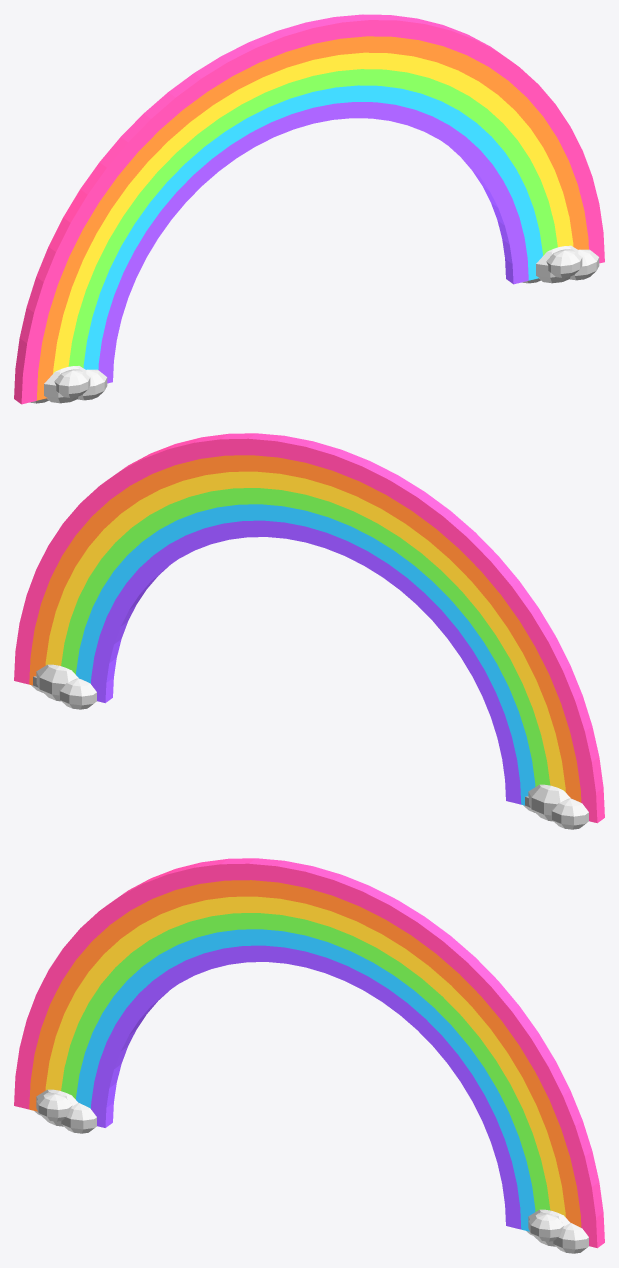
Rendered from rainbow_arch.fbx.
3 renders of one model, top to bottom at view 1: azimuth 30°, elevation 25°; view 2: azimuth 150°, elevation 25°; view 3: azimuth 330°, elevation 25°, orthographic.
Parts seen in each view (by area): view 1: Band1, Band2, Band3, Band4, Band6, Band5, Clouds; view 2: Band1, Band2, Band3, Band4, Band6, Band5, Clouds; view 3: Band1, Band2, Band3, Band4, Band6, Band5, Clouds.
Boxes of the visible parts, left/top/right/bottom form: Band1: left=14, top=14, right=604, bottom=404; Band2: left=36, top=36, right=588, bottom=400; Band3: left=53, top=52, right=573, bottom=373; Band4: left=68, top=69, right=557, bottom=367; Band6: left=98, top=102, right=528, bottom=383; Band5: left=83, top=85, right=542, bottom=369; Clouds: left=30, top=245, right=599, bottom=403; Band1: left=14, top=433, right=604, bottom=823; Band2: left=29, top=455, right=581, bottom=802; Band3: left=45, top=471, right=565, bottom=792; Band4: left=61, top=488, right=550, bottom=786; Band6: left=91, top=520, right=521, bottom=804; Band5: left=76, top=504, right=535, bottom=805; Clouds: left=31, top=664, right=588, bottom=829; Band1: left=14, top=858, right=604, bottom=1248; Band2: left=29, top=880, right=581, bottom=1227; Band3: left=45, top=896, right=565, bottom=1217; Band4: left=61, top=913, right=550, bottom=1211; Band6: left=91, top=945, right=521, bottom=1229; Band5: left=76, top=929, right=535, bottom=1231; Clouds: left=34, top=1089, right=588, bottom=1253.
Size of the model in its own units: 268 by 138 by 23.93.
